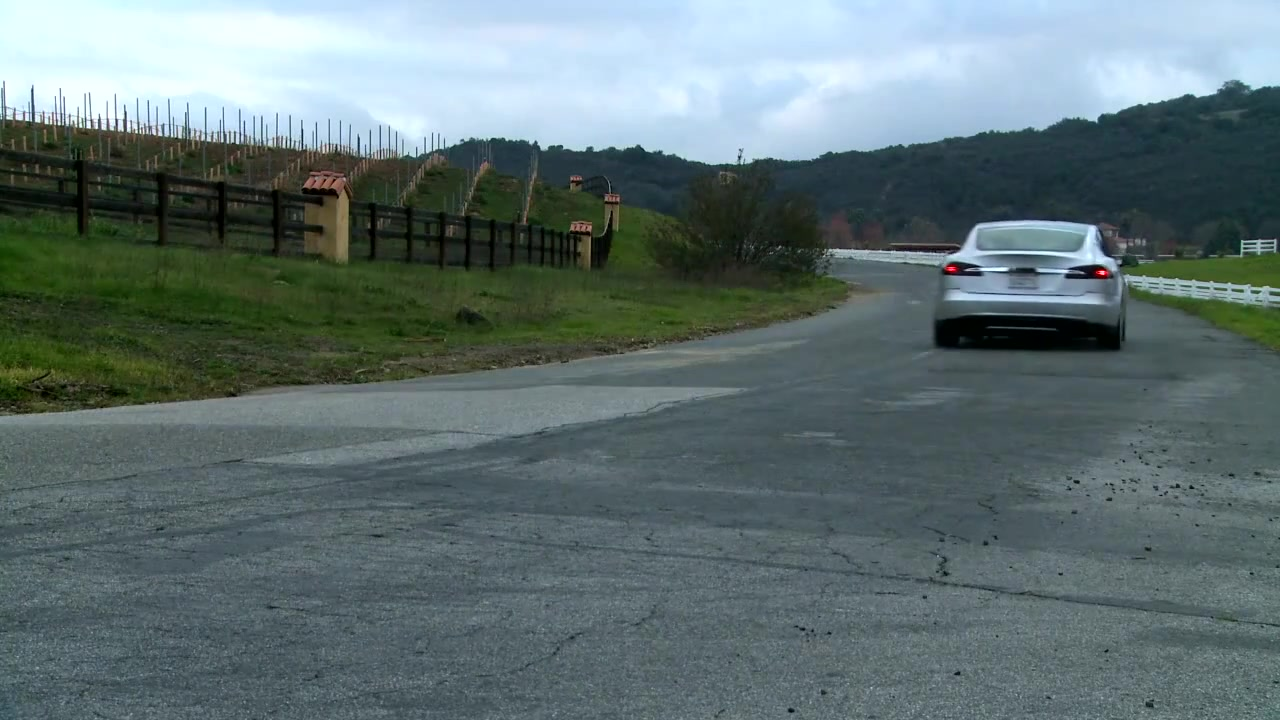car: (929, 219, 1142, 353)
